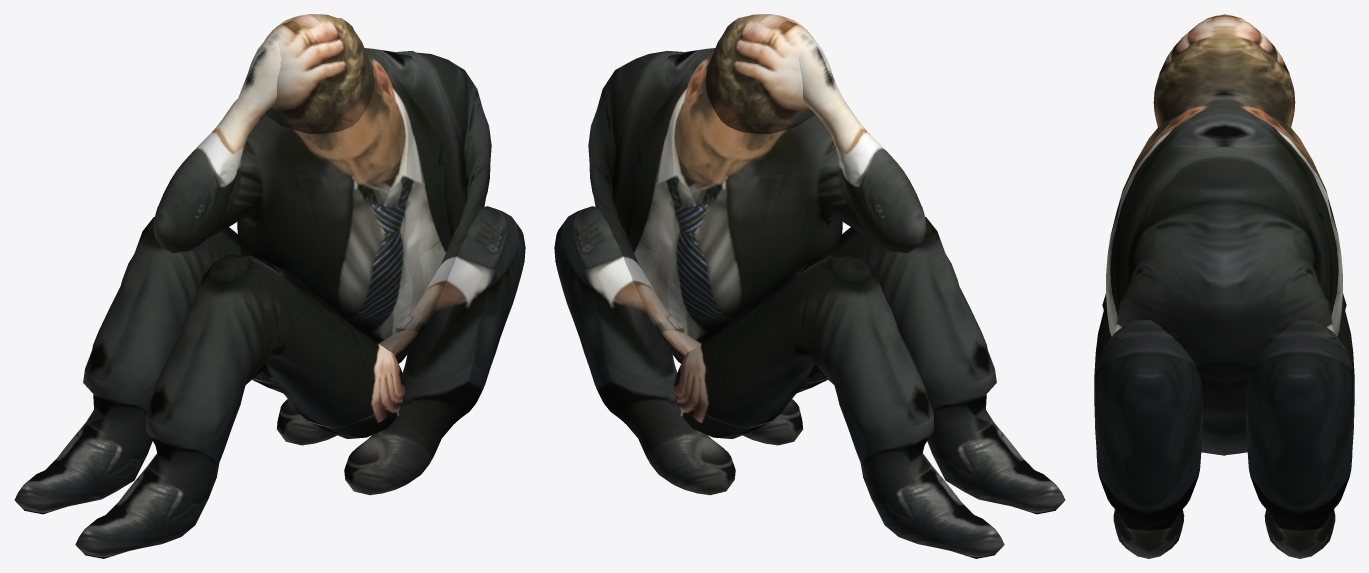
The model's file is sad_person.glb.
3 views of the same model, side by side, from view 1: azimuth 30°, elevation 25°; view 2: azimuth 150°, elevation 25°; view 3: azimuth 270°, elevation 25° (orthographic). The views are drawn at different scales.
Visible parts, largest first — view 1: Object_2; view 2: Object_2; view 3: Object_2.
Boxes of the visible parts, x1,y1,x2,y2 form: Object_2: (14, 14, 525, 558); Object_2: (554, 14, 1065, 558); Object_2: (1094, 14, 1354, 558).
Size of the model in its own units: 1.73 by 1.72 by 0.7947.
1 material, 1 textured.
